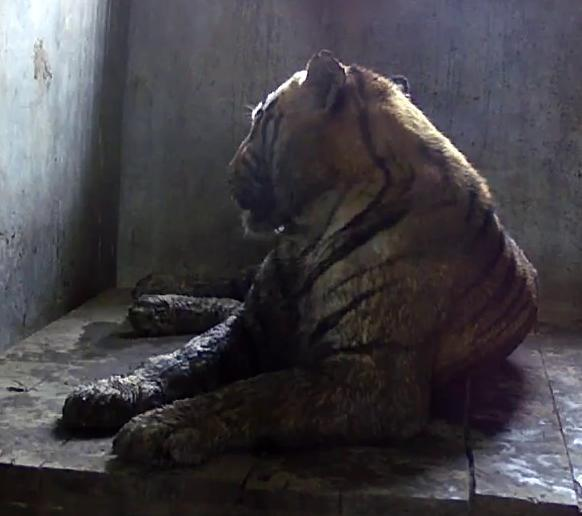tiger: (61, 50, 536, 463)
